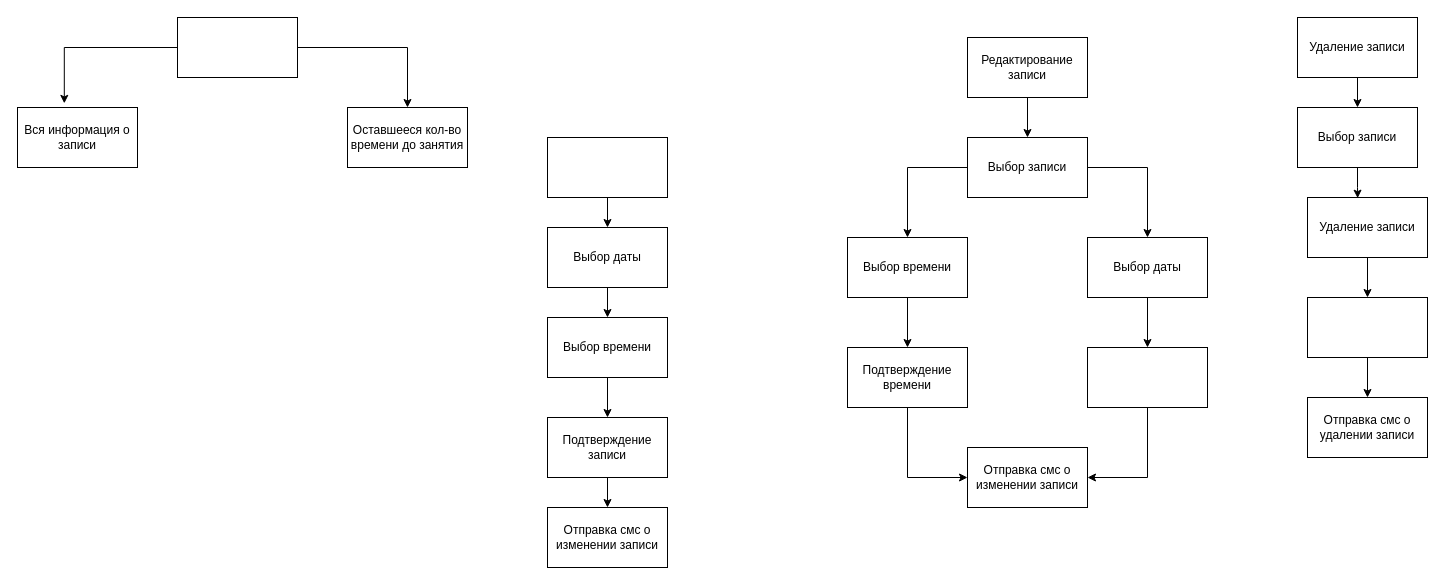
The diagram is 1445 pixels wide and 585 high, and some of its shapes have lost their labels. Each missing label, with the centre of its shape:
"Подтверждение даты" belongs at [1147,377].
"Подтверждение удаления" belongs at [1367,327].
"Просмотр записи" belongs at [237,47].
"Создание записи" belongs at [607,167].
